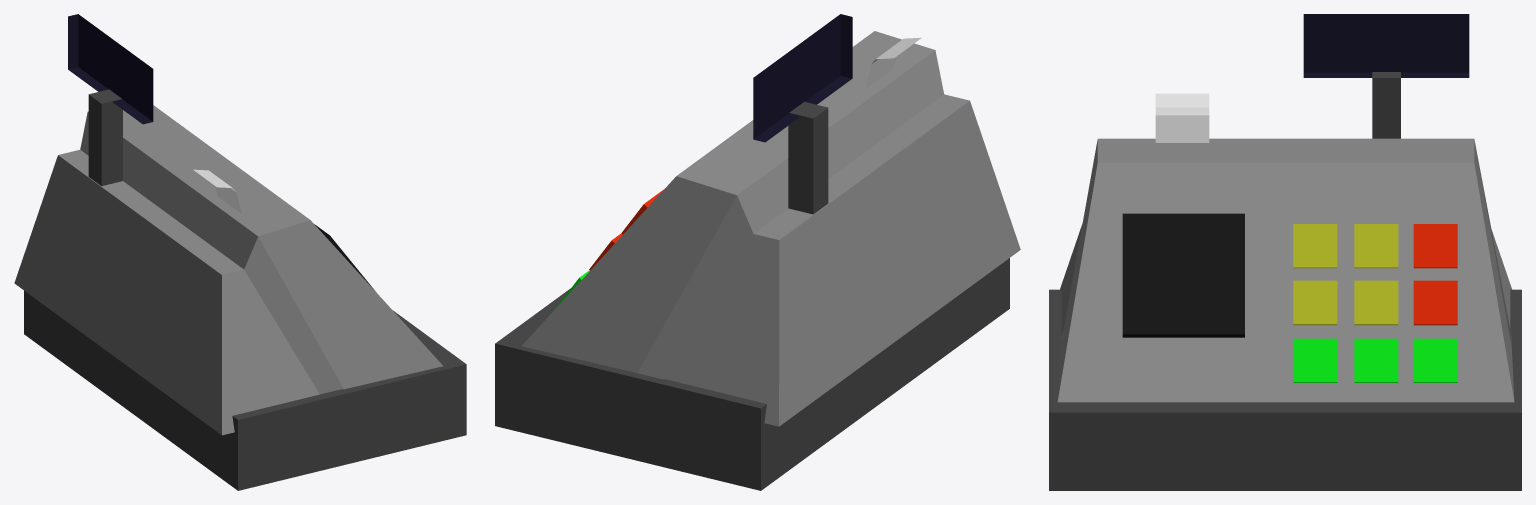
Rendered from cashregister.fbx.
3 renders of one model, left to right at view 1: azimuth 30°, elevation 25°; view 2: azimuth 150°, elevation 25°; view 3: azimuth 270°, elevation 25°, orthographic. The views are drawn at different scales.
Parts seen in each view (by area): view 1: Cube, Cube.002, Cube.012, Cube.011, Plane; view 2: Cube, Cube.002, Cube.012, Cube.011, Plane; view 3: Cube, Cube.002, Cube.010, Cube.012, Cube.001, Cube.009, Cube.006, Plane, Cube.011.
Part boxes in pixels (box(x1,y1,x2,y2)): Cube: box(14, 105, 443, 435); Cube.002: box(24, 290, 466, 490); Cube.012: box(68, 14, 153, 124); Cube.011: box(88, 89, 122, 186); Plane: box(193, 169, 241, 213); Cube: box(522, 31, 1020, 426); Cube.002: box(495, 258, 1009, 490); Cube.012: box(753, 14, 852, 142); Cube.011: box(788, 102, 828, 214); Plane: box(865, 37, 921, 88); Cube: box(1057, 138, 1514, 402); Cube.002: box(1049, 289, 1521, 490); Cube.010: box(1122, 213, 1244, 337); Cube.012: box(1303, 14, 1469, 77); Cube.001: box(1293, 224, 1398, 325); Cube.009: box(1293, 338, 1457, 382); Cube.006: box(1413, 224, 1457, 325); Plane: box(1155, 93, 1209, 142); Cube.011: box(1372, 72, 1400, 138).
Size of the model in its own units: 211 by 276 by 324.
